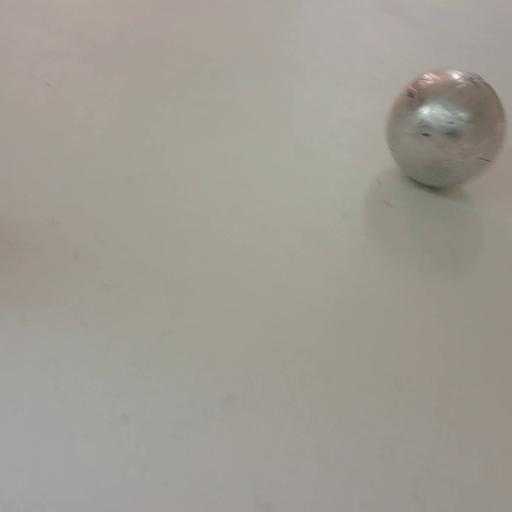alive: (383, 69, 505, 187)
